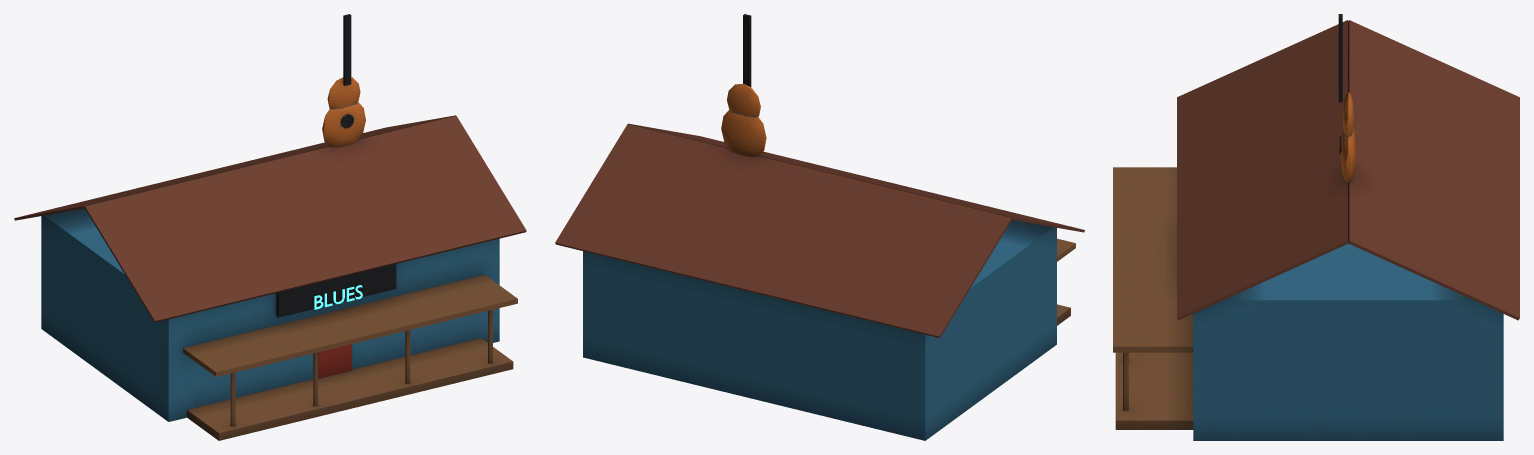
Rendered from casa_blues.glb.
3 renders of one model, left to right at view 1: azimuth 30°, elevation 25°; view 2: azimuth 150°, elevation 25°; view 3: azimuth 270°, elevation 25°, orthographic. The views are drawn at different scales.
Parts seen in each view (by area): view 1: casa_blues; view 2: casa_blues; view 3: casa_blues.
Part boxes in pixels (<box>): casa_blues: <box>14,14,526,440</box>; casa_blues: <box>555,14,1084,440</box>; casa_blues: <box>1113,14,1519,440</box>.
Bounding box in the file's own units: 20.2 × 15.8 × 15.73.
Materials: 1 (1 with a texture image).
